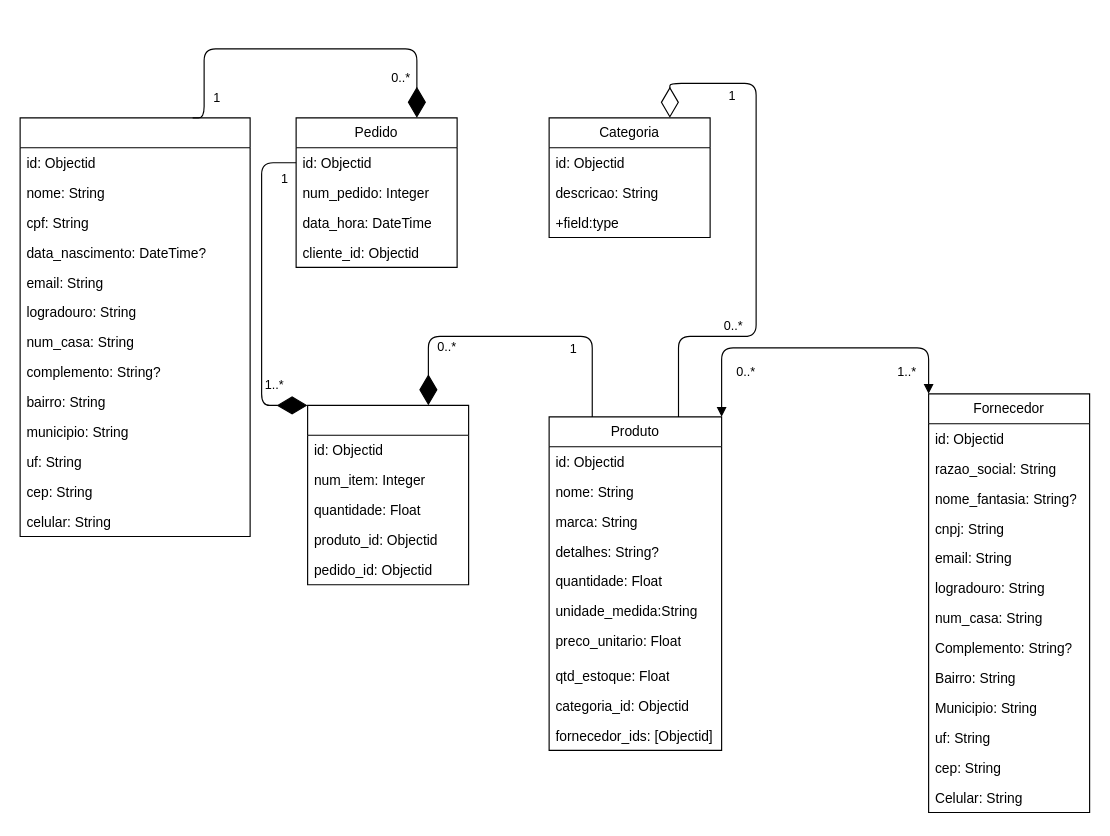
This 1110x836 diagram has some shape labels left out. The box of each missing label's shape, as (x1, y1, x2, y2) in pixels:
Cliente: (19, 117, 250, 536)
ItemPedido: (306, 404, 469, 585)
